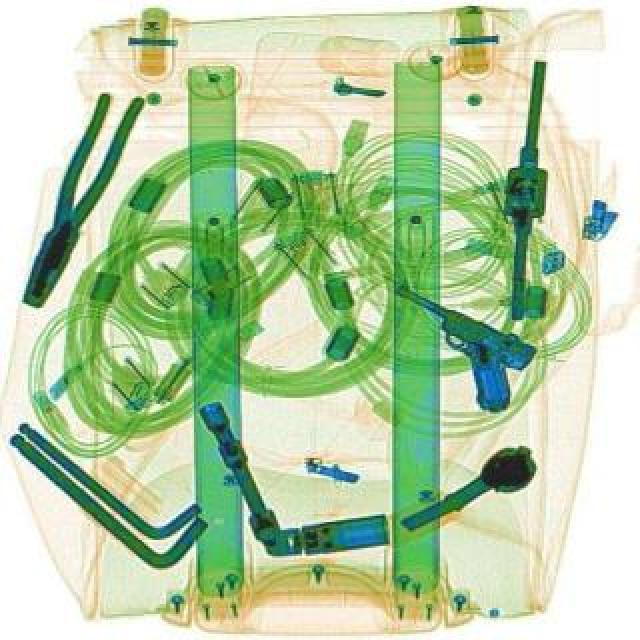gun: (358, 286, 538, 422)
wrench: (12, 88, 142, 316)
